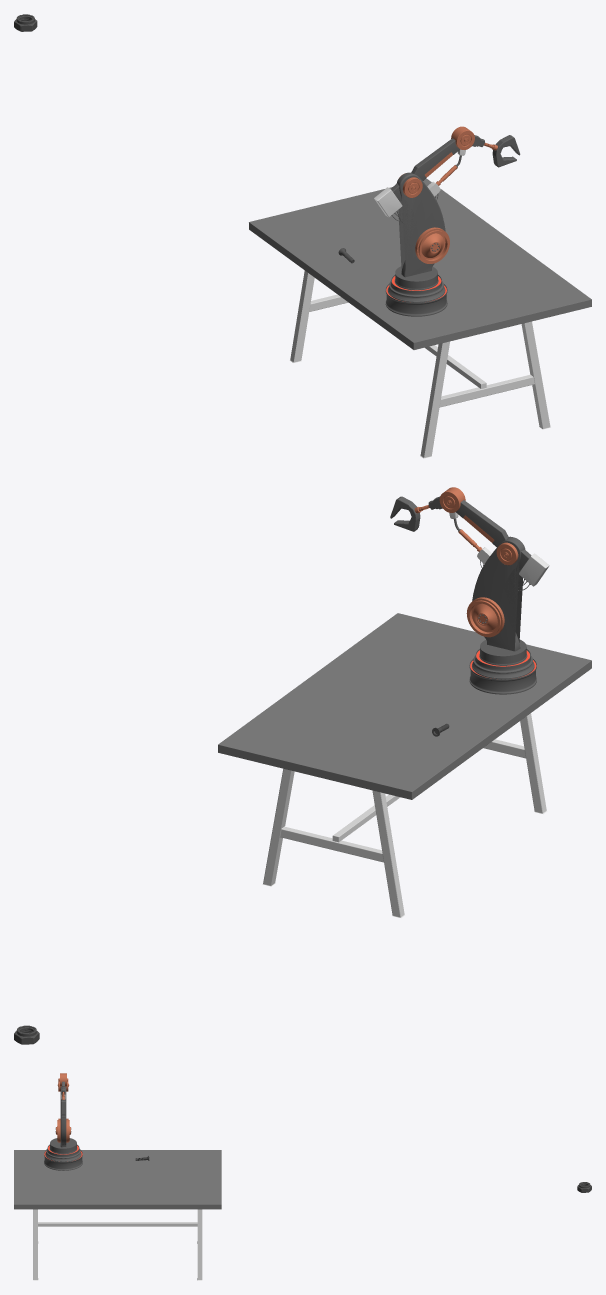
Rendered from table_robo.fbx.
The picture shows the model from 3 angles, top to bottom: view 1: azimuth 30°, elevation 25°; view 2: azimuth 150°, elevation 25°; view 3: azimuth 270°, elevation 25°; orthographic projection. The views are drawn at different scales.
Parts seen in each view (by area): view 1: Plane.000, Plane.001, Stand_2, Base, SCEW, Stand_1; view 2: Plane.000, Plane.001, Stand_2, Base, SCEW, Stand_1; view 3: Plane.000, Base, Plane.006, Plane.001, Stand_2.
Boxes of the visible parts, x1,y1,x2,y2 form: Plane.000: (249,178,591,349); Plane.001: (290,270,550,458); Stand_2: (396,172,445,277); Base: (385,266,447,316); SCEW: (415,227,449,263); Stand_1: (411,138,459,180); Plane.000: (218,613,591,799); Plane.001: (262,713,547,917); Stand_2: (472,536,525,651); Base: (469,639,536,694); SCEW: (466,597,504,637); Stand_1: (456,500,508,546); Plane.000: (14,1150,221,1209); Base: (44,1138,82,1170); Plane.006: (38,1222,197,1226); Plane.001: (33,1209,202,1280); Stand_2: (60,1087,66,1147).
Size of the model in its own units: 100 by 159 by 446.
